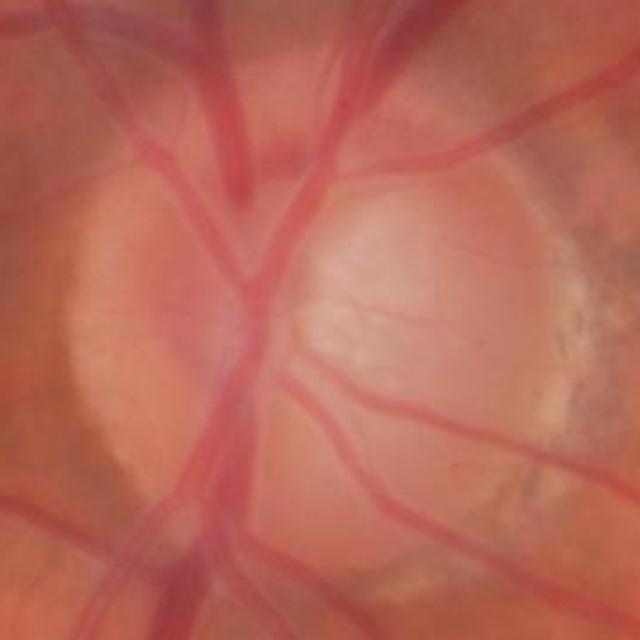OC: (216, 164, 452, 404)
OD: (59, 43, 579, 614)
